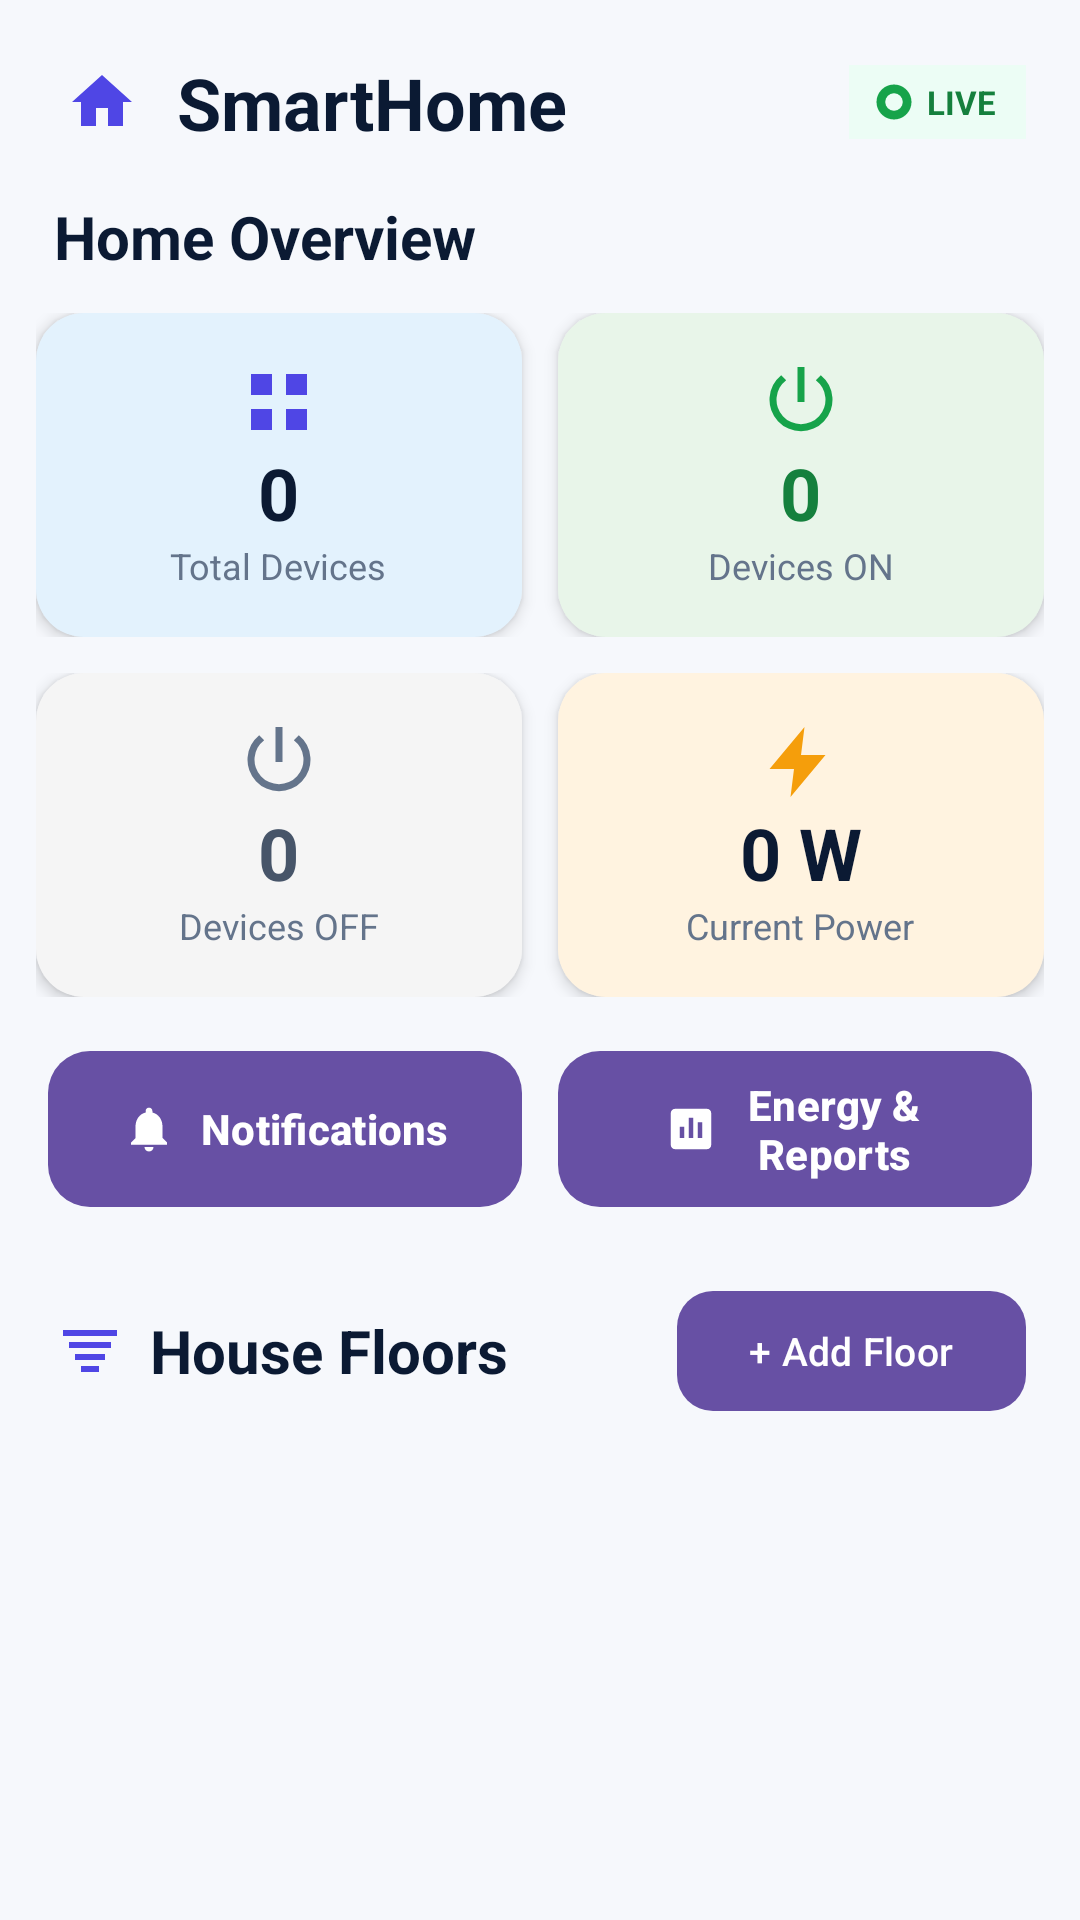

Locate icon controls on the screen. Image size 1080px×1920px, boxes as (x1, y1, x2, y2).
home modern: (72, 75, 132, 126)
